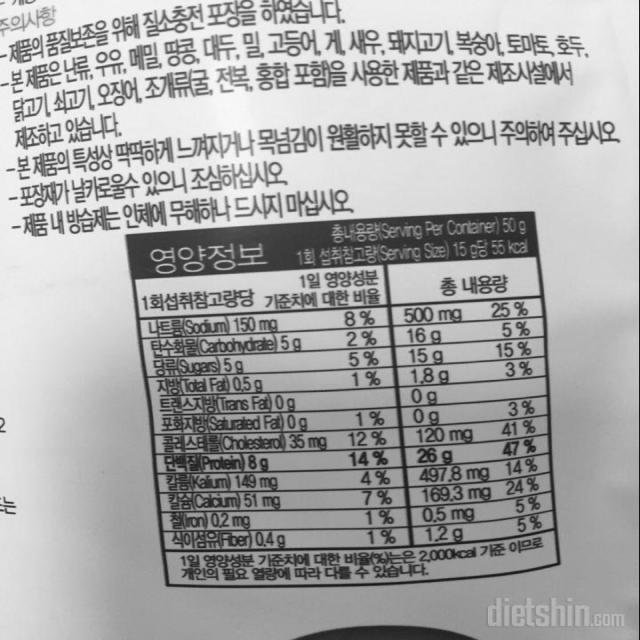Nutrition Label: (116, 203, 586, 595)
